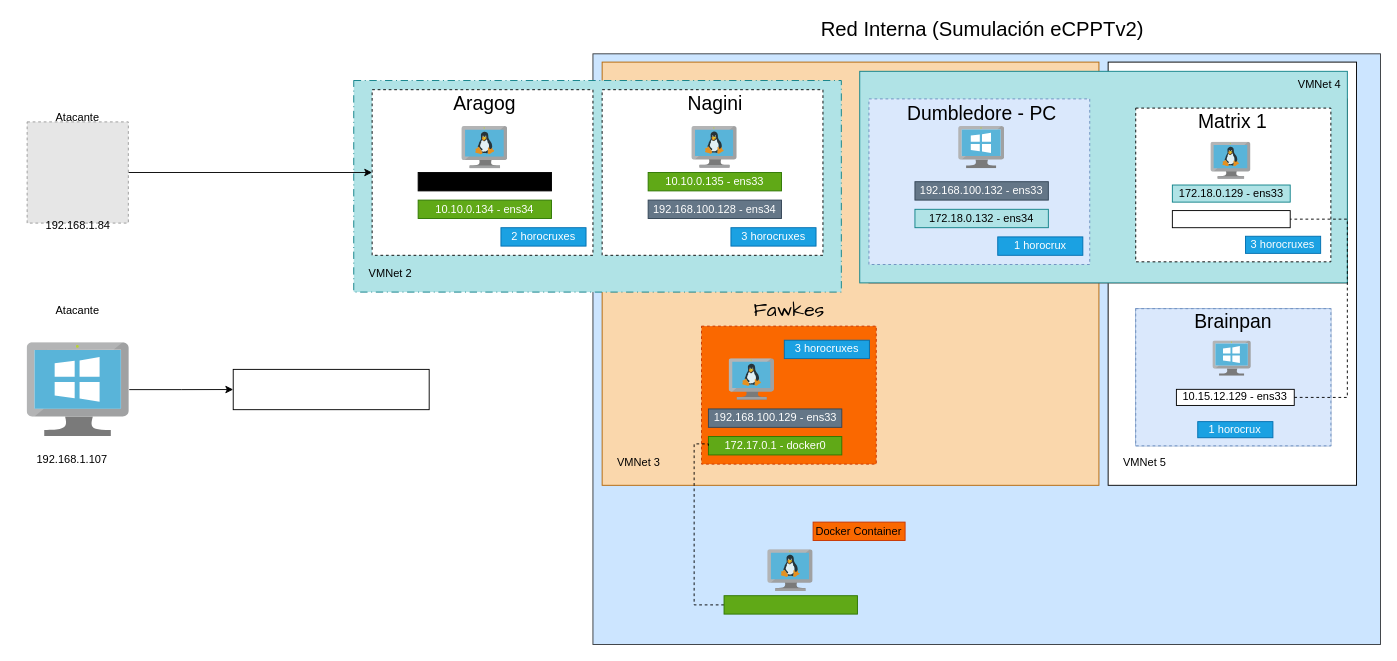
The diagram is 1397 pixels wide and 661 high, and some of its shapes have lost their labels. Grey dashed boxes stand in for pictures. The shapes that lost their labels are listed below. From the top down, each one's centre as x and y in pixels, then its label:
(x=1230, y=219): 10.15.12.128 - ens34
(x=330, y=389): Para la parte final de Buffer Overflow
(x=790, y=604): 172.17.0.2 - ens33
